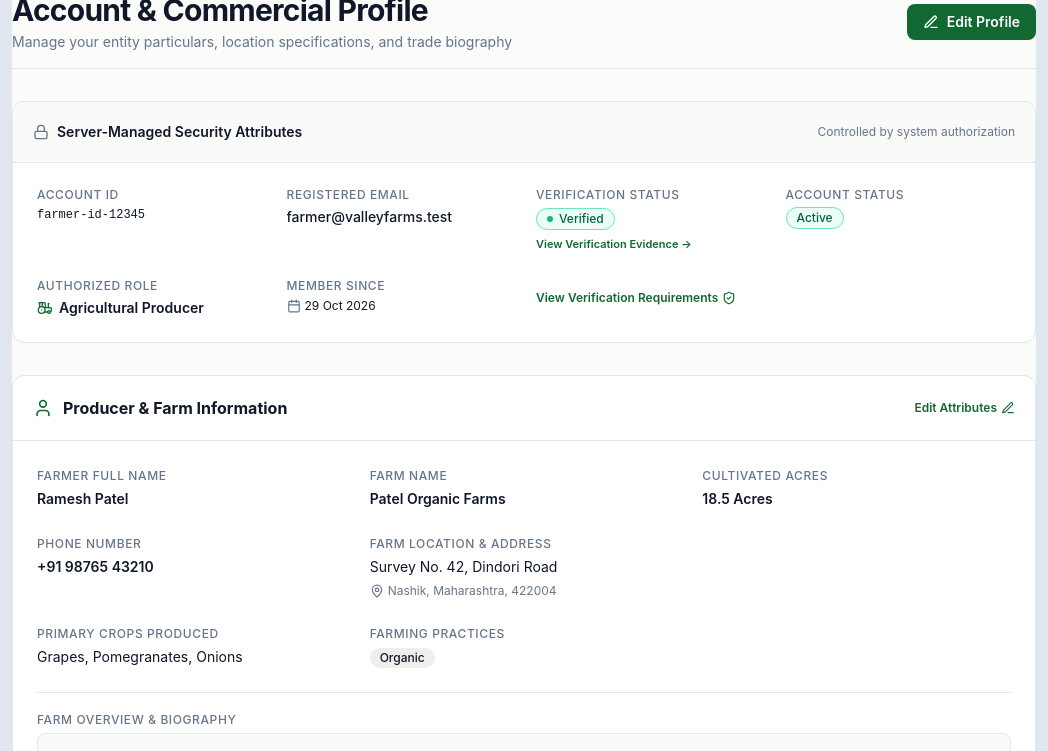
ProfilePage › successfully updates farmer profile and returns to view mode with updated data
Click the button "Edit Profile": {"x": 971, "y": 22} [907,4,1036,40]
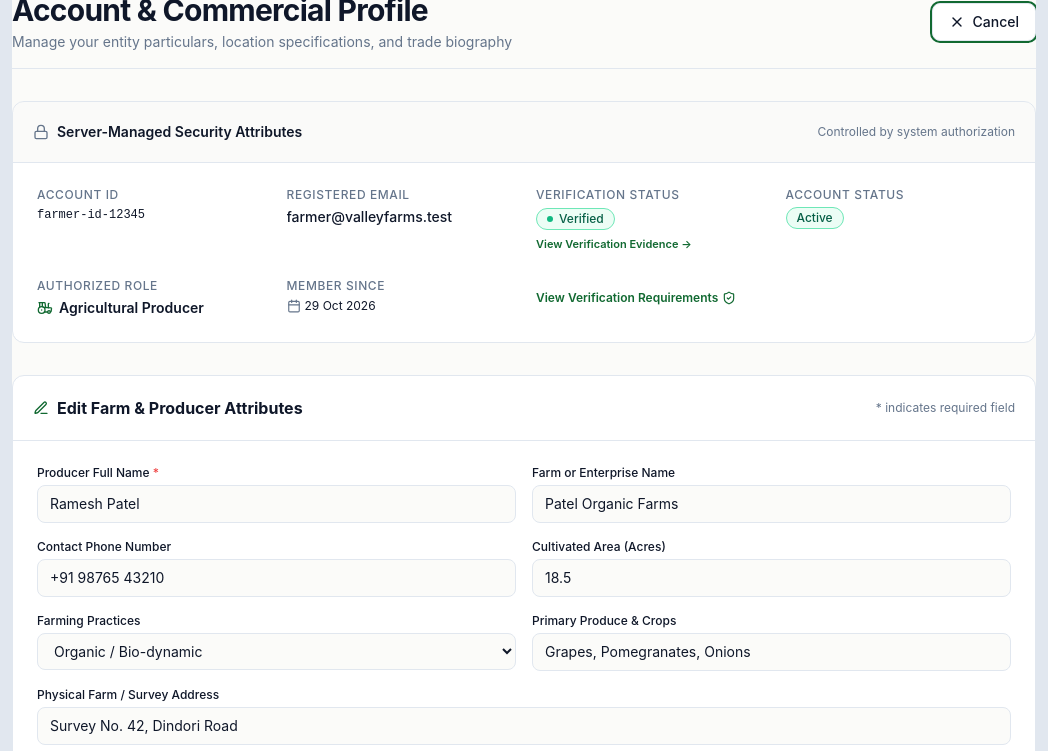
Replace the text in the field labelled "Farm or Enterprise Name" with "Patel Heritage Vineyards": {"x": 772, "y": 504} [532,485,1011,523]
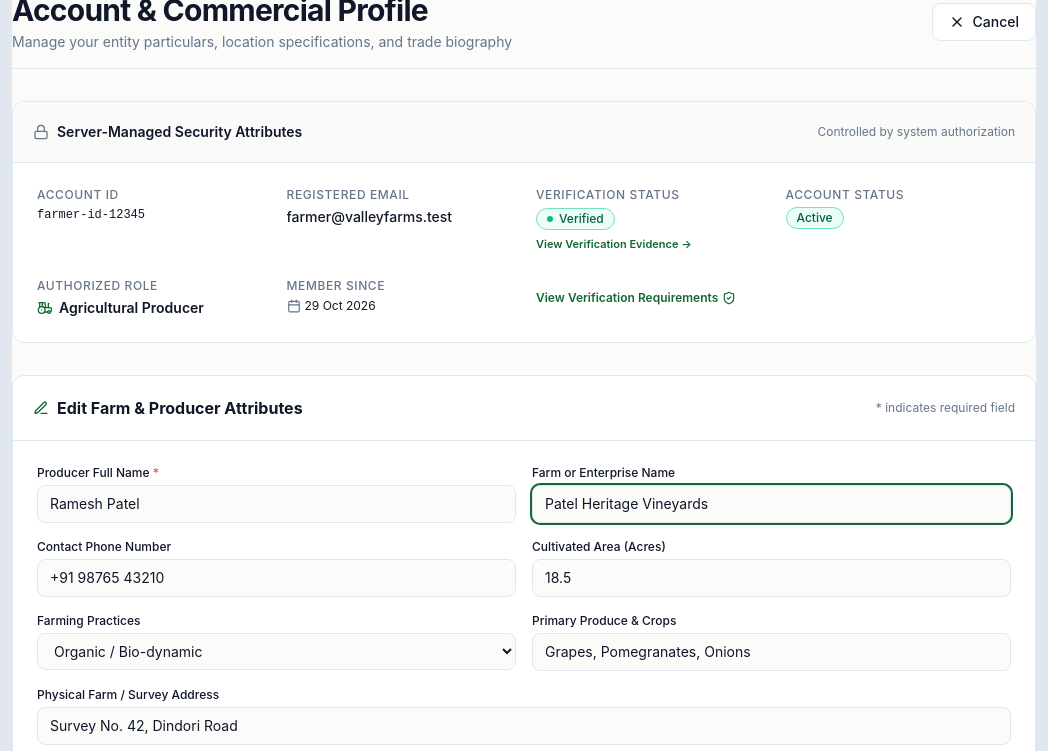
Replace the text in the number field labelled "Cultivated Area (Acres)" with "22": {"x": 772, "y": 578} [532,559,1011,597]
(page scrolled)
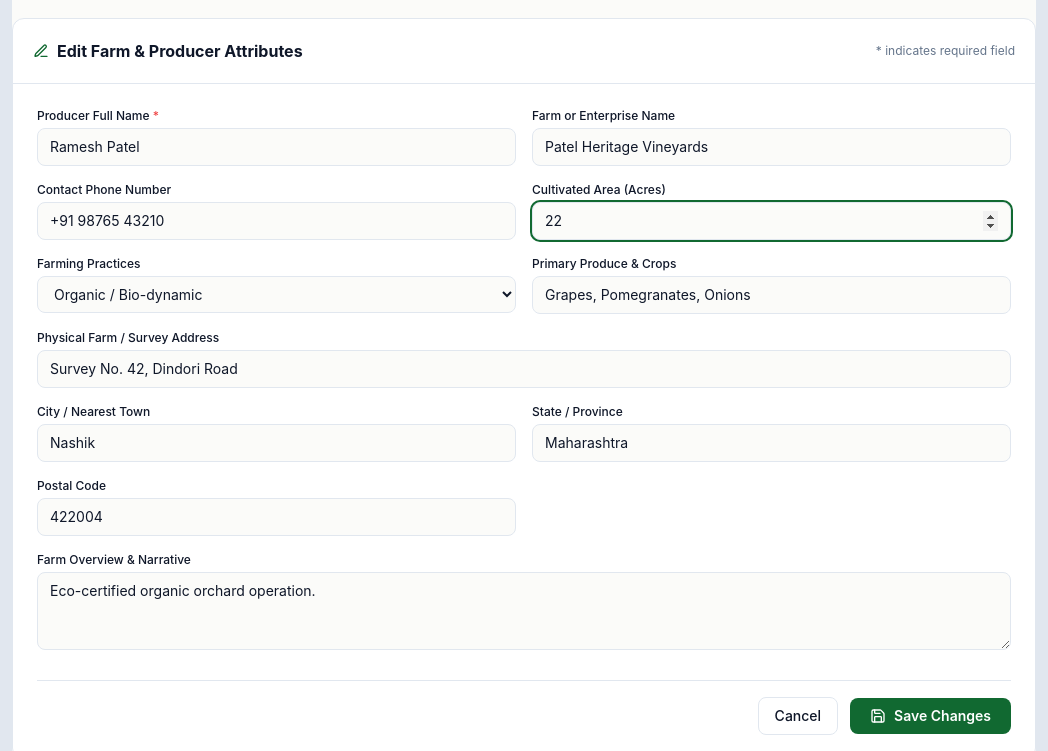
Click the button "Save Changes": {"x": 931, "y": 716} [850,698,1011,734]
(page scrolled)
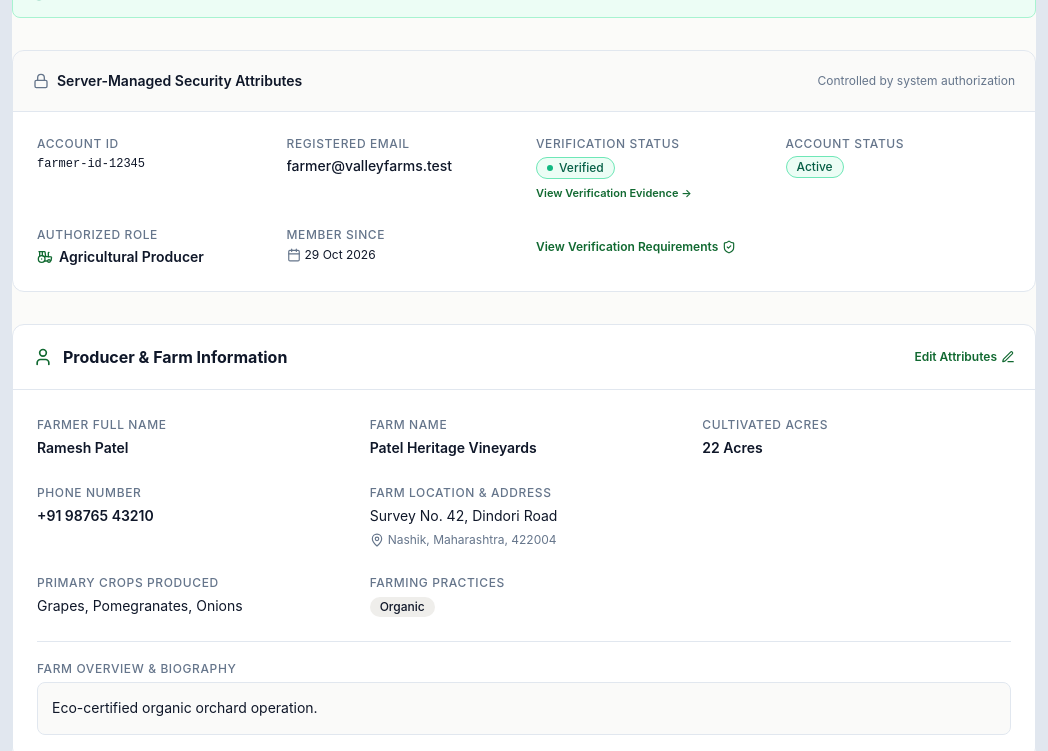
Now the text "Patel Heritage Vineyards" is shown, box [370,439,537,456]
